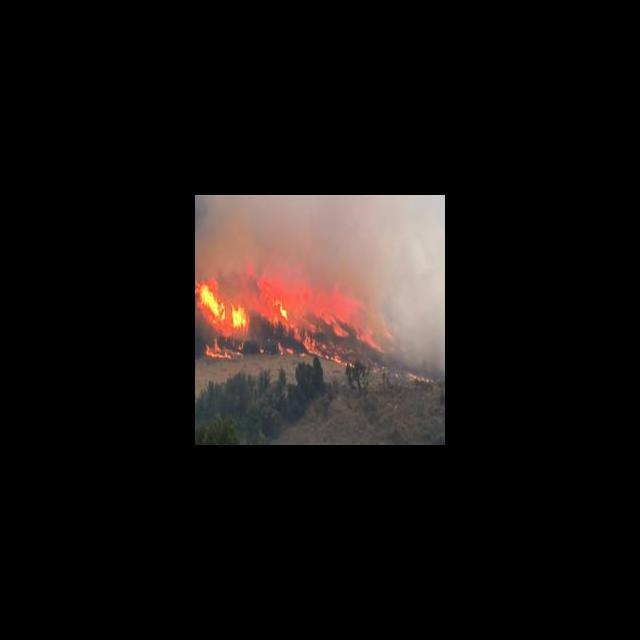Fire: (200, 276, 338, 359)
Smoke: (195, 195, 444, 261)
